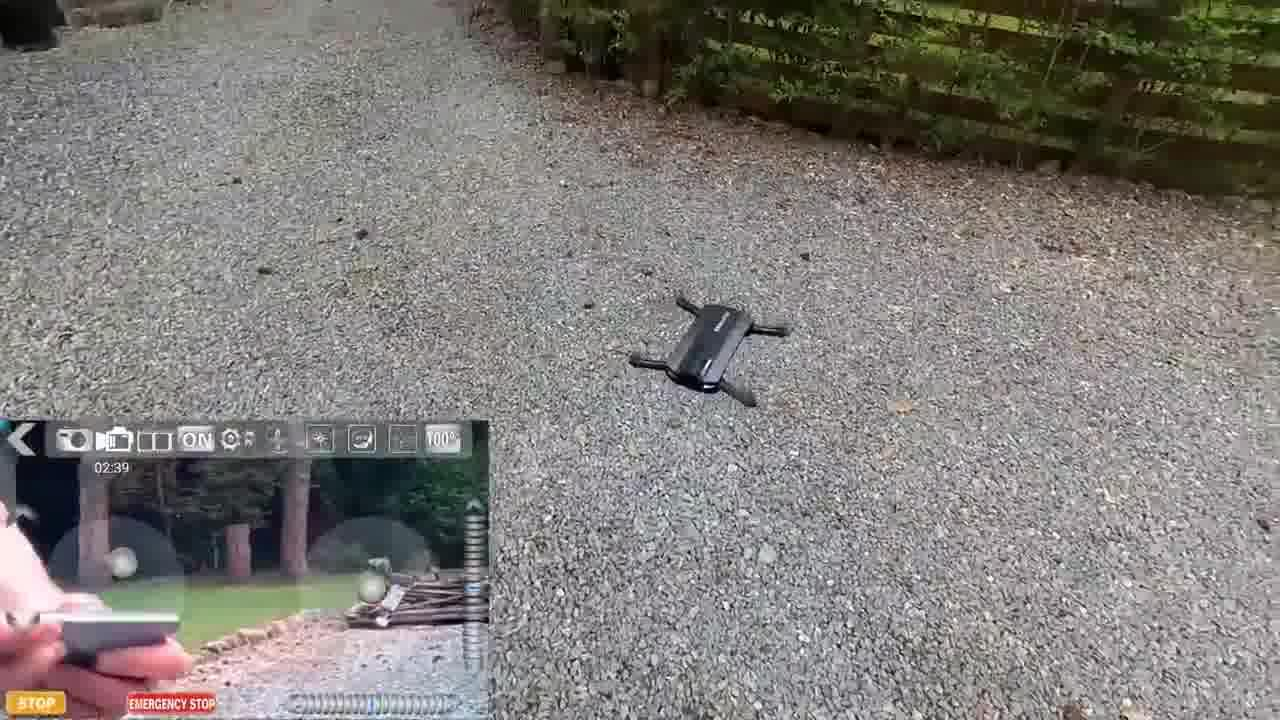drone: (617, 285, 799, 421)
